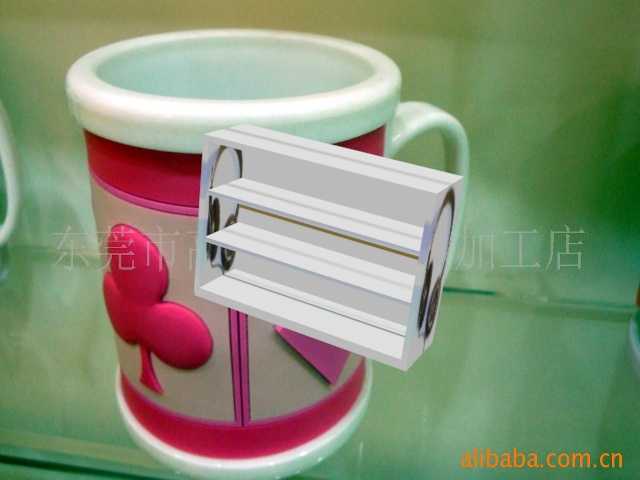bookcase: (193, 121, 464, 376)
